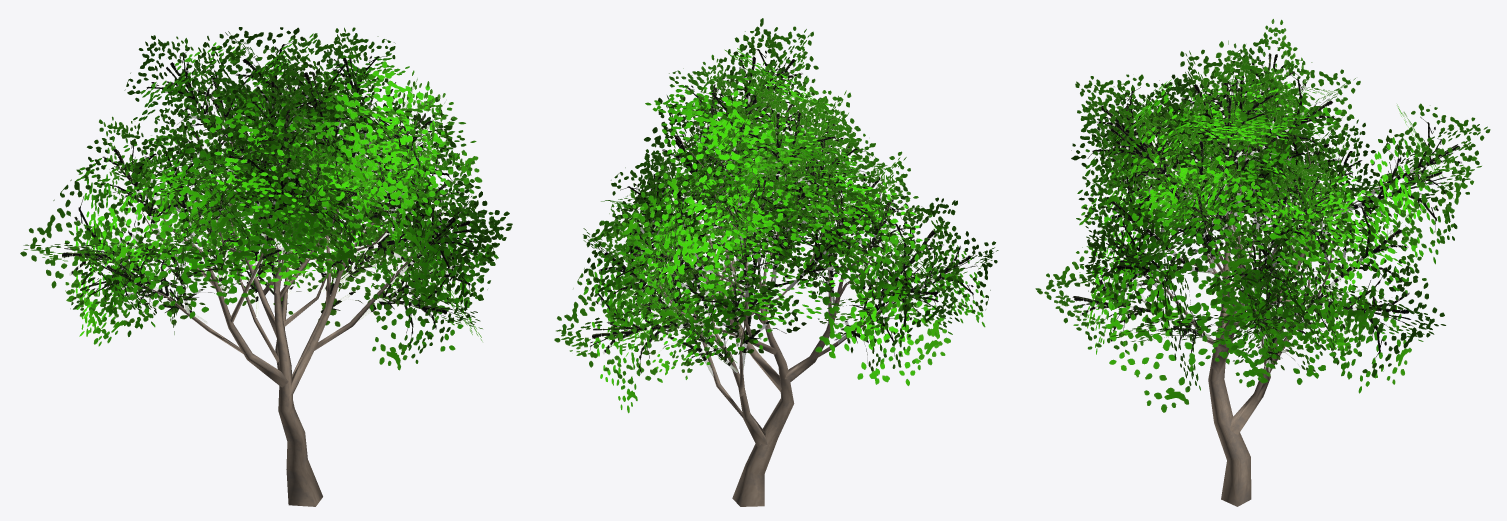
The model's file is tree_Broadleaf_M2_LOD1.fbx.
The picture shows the model from 3 angles, left to right: view 1: azimuth 30°, elevation 25°; view 2: azimuth 150°, elevation 25°; view 3: azimuth 270°, elevation 25°; orthographic projection. The views are drawn at different scales.
Parts seen in each view (by area): view 1: Broadleaf_M2_LOD1; view 2: Broadleaf_M2_LOD1; view 3: Broadleaf_M2_LOD1.
Boxes of the visible parts, x1,y1,x2,y2 form: Broadleaf_M2_LOD1: [20, 27, 512, 506]; Broadleaf_M2_LOD1: [554, 18, 998, 506]; Broadleaf_M2_LOD1: [1035, 19, 1490, 506].
Size of the model in its own units: 1154 by 1218 by 1109.
